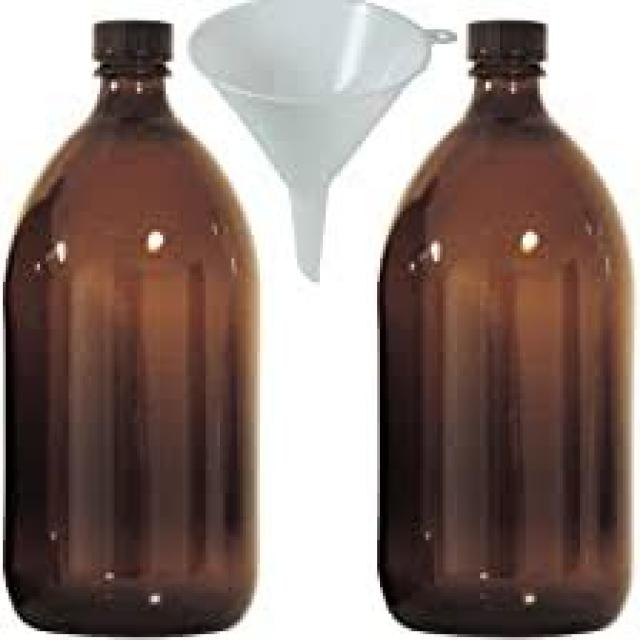glass: (374, 59, 629, 637), (0, 64, 254, 637)
plastic: (183, 0, 454, 279), (463, 18, 546, 59), (89, 18, 169, 59)
